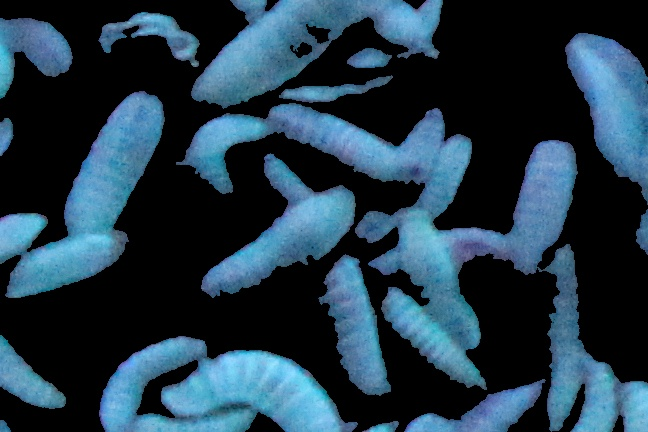larvae: (190, 1, 371, 114), (201, 185, 355, 296), (160, 348, 347, 431), (63, 90, 166, 232), (397, 212, 482, 347), (360, 104, 442, 241), (570, 48, 648, 185), (383, 282, 483, 388), (96, 340, 206, 432), (320, 252, 390, 393), (267, 103, 395, 178), (507, 139, 581, 268), (6, 227, 125, 301), (541, 242, 585, 430), (186, 113, 267, 199), (350, 1, 444, 69), (373, 229, 505, 275), (415, 135, 482, 220), (1, 330, 69, 411), (445, 381, 543, 432), (1, 15, 78, 76), (134, 407, 259, 432), (260, 154, 318, 204), (582, 354, 618, 432), (1, 211, 48, 263)
